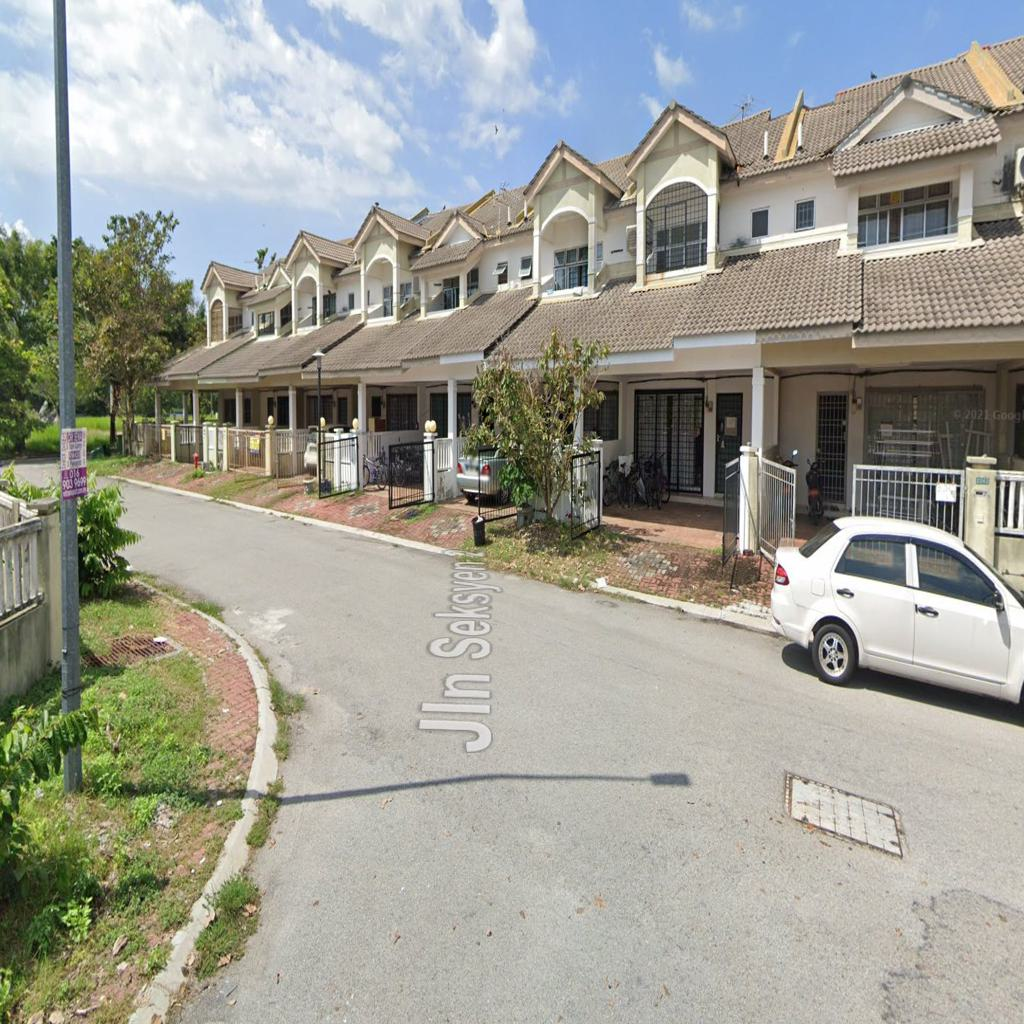Junction: (159, 519, 658, 805)
